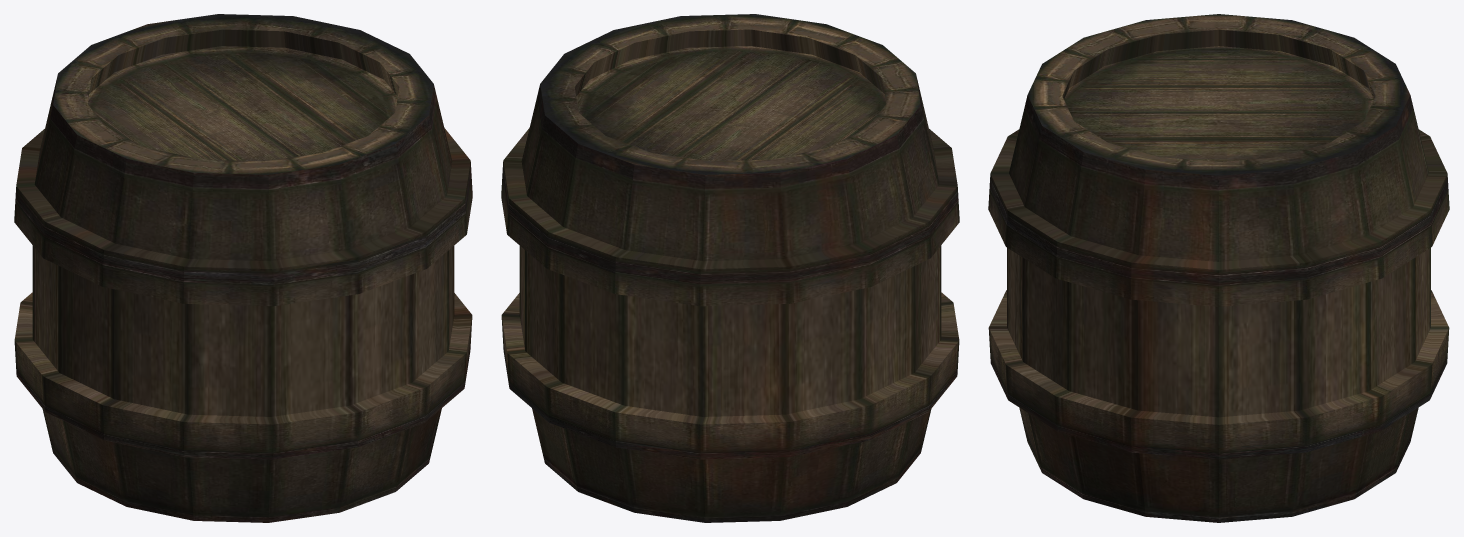
The model's file is Barril Version 2.fbx.
The picture shows the model from 3 angles, left to right: view 1: azimuth 30°, elevation 25°; view 2: azimuth 150°, elevation 25°; view 3: azimuth 270°, elevation 25°; orthographic projection.
Visible parts, largest first — view 1: Barril; view 2: Barril; view 3: Barril.
Boxes of the visible parts, x1,y1,x2,y2 form: Barril: (14,14,472,522); Barril: (501,14,959,522); Barril: (988,14,1449,522).
Bounding box in the file's own units: 335 × 278 × 335.
1 material, 1 textured.
